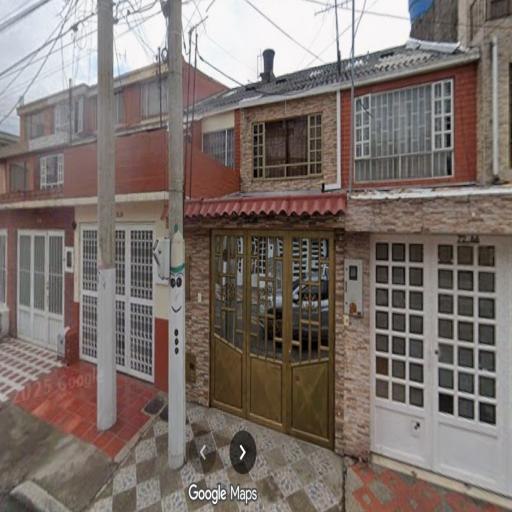poste: (156, 3, 195, 477), (86, 4, 126, 440)
